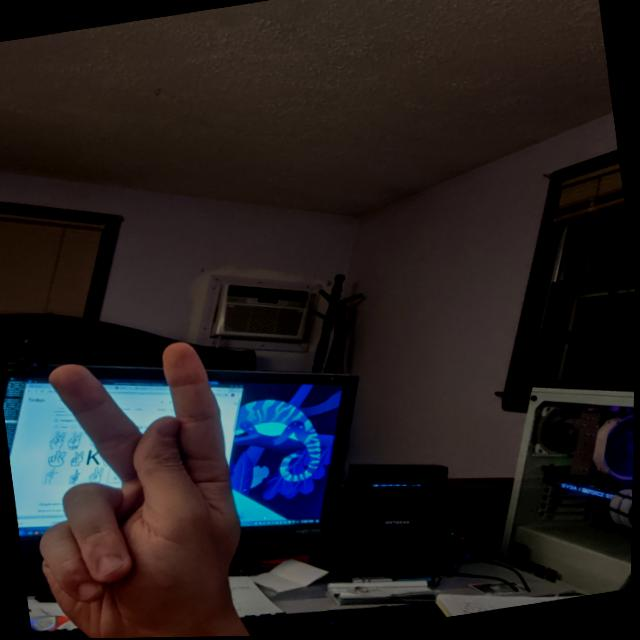K: (3, 327, 277, 639)
